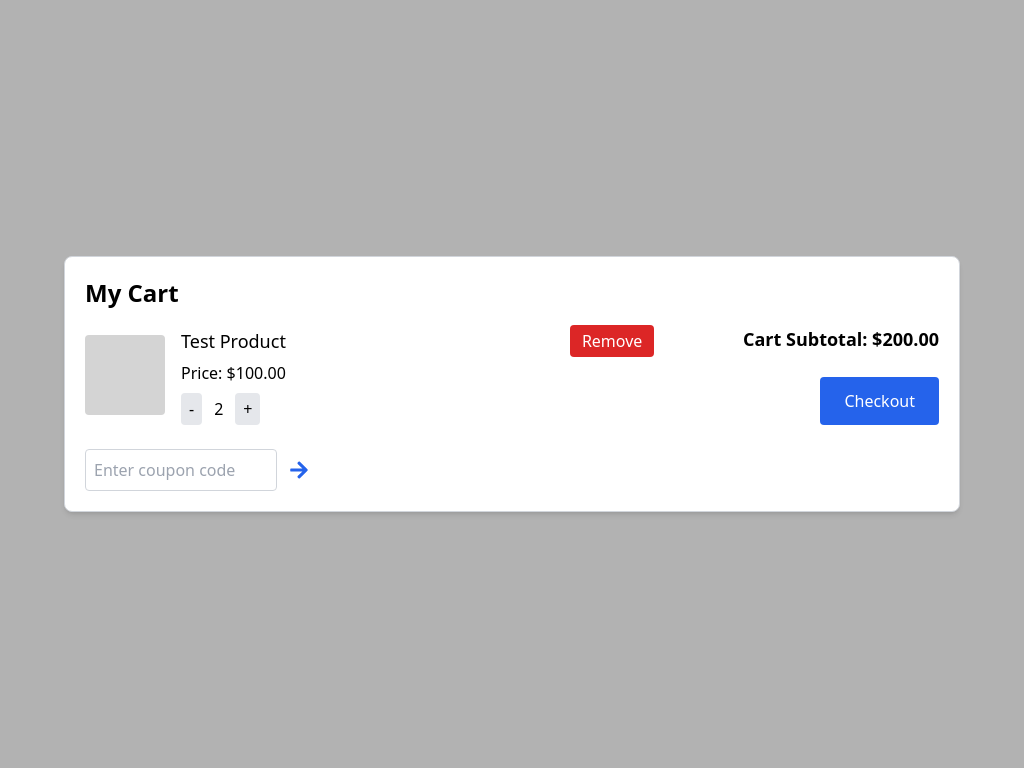
Scenario: Cart component › decreases quantity when - button is clicked
Note: Click the "-" button and wait for the quantity to update to 1
Click the button "-" at (192, 409), box [181, 393, 202, 425]
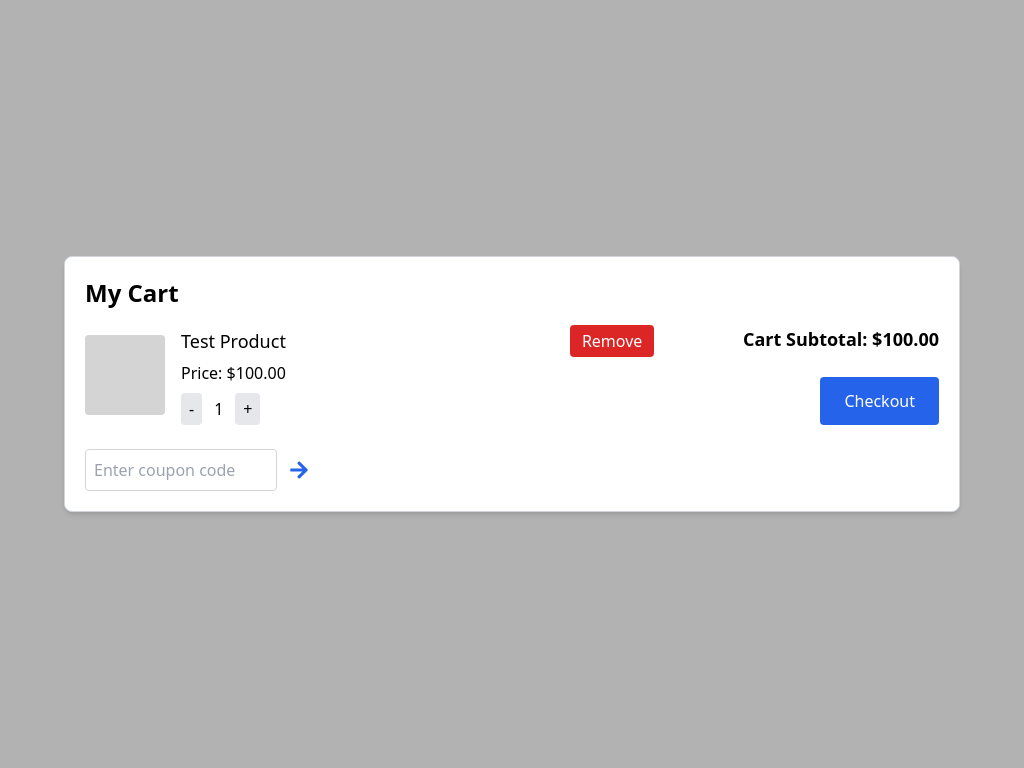
Expected: the text "1" is shown, [214, 397, 223, 421]
